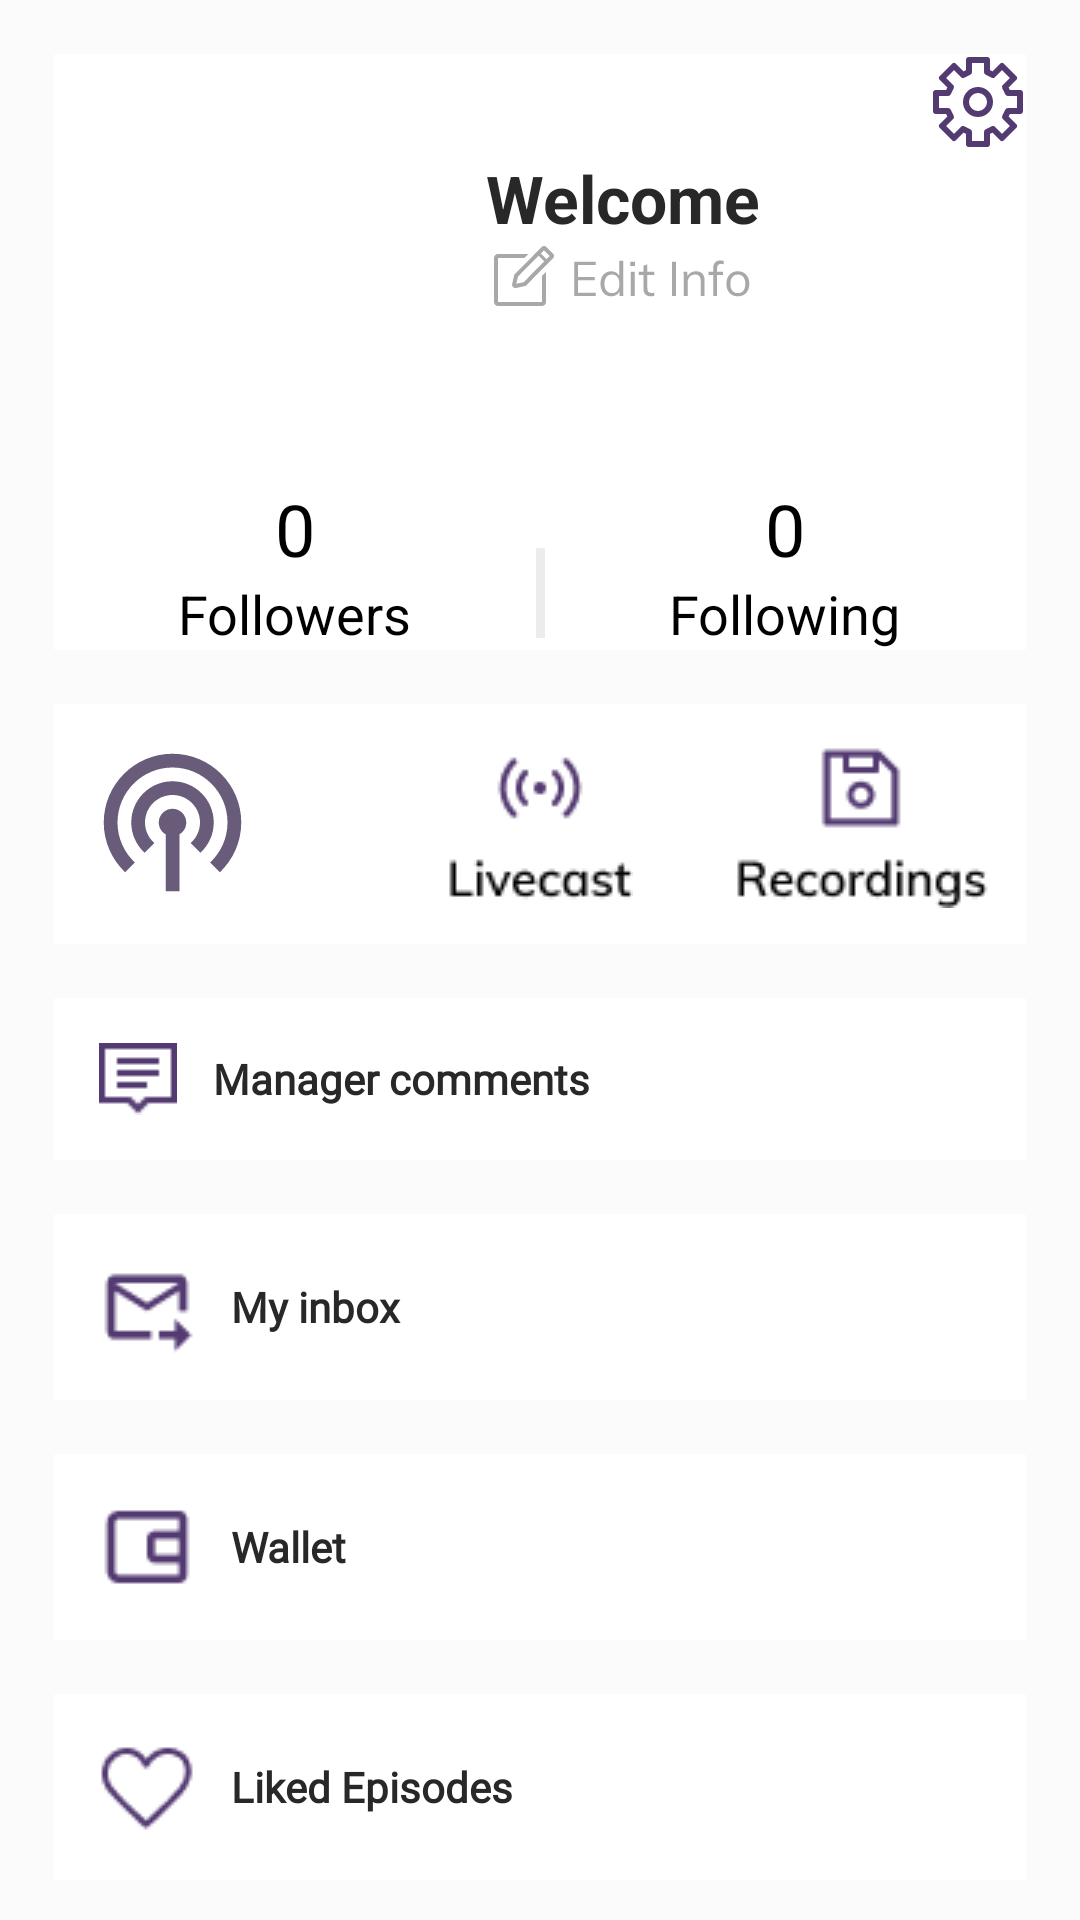

Screen size 1080px×1920px. Icon name, then its box in pixels as [x1, y1, x2, y2]:
podcast: [103, 753, 242, 892]
setting pod: [933, 57, 1023, 147]
